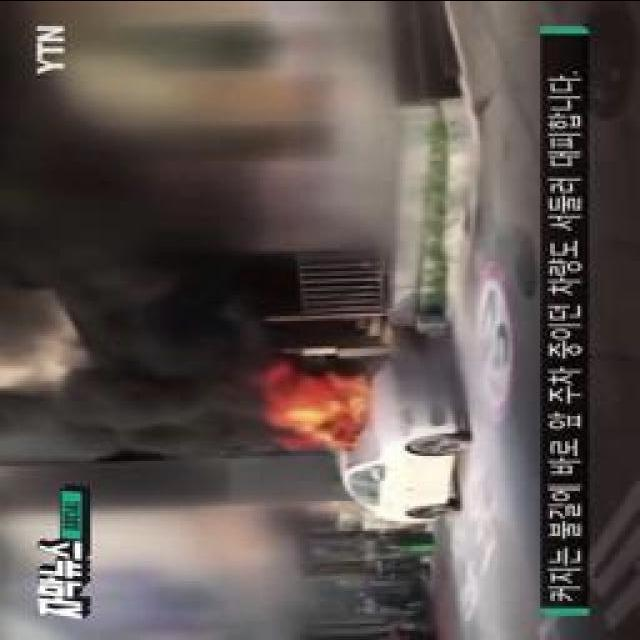Fire: (275, 370, 361, 440)
